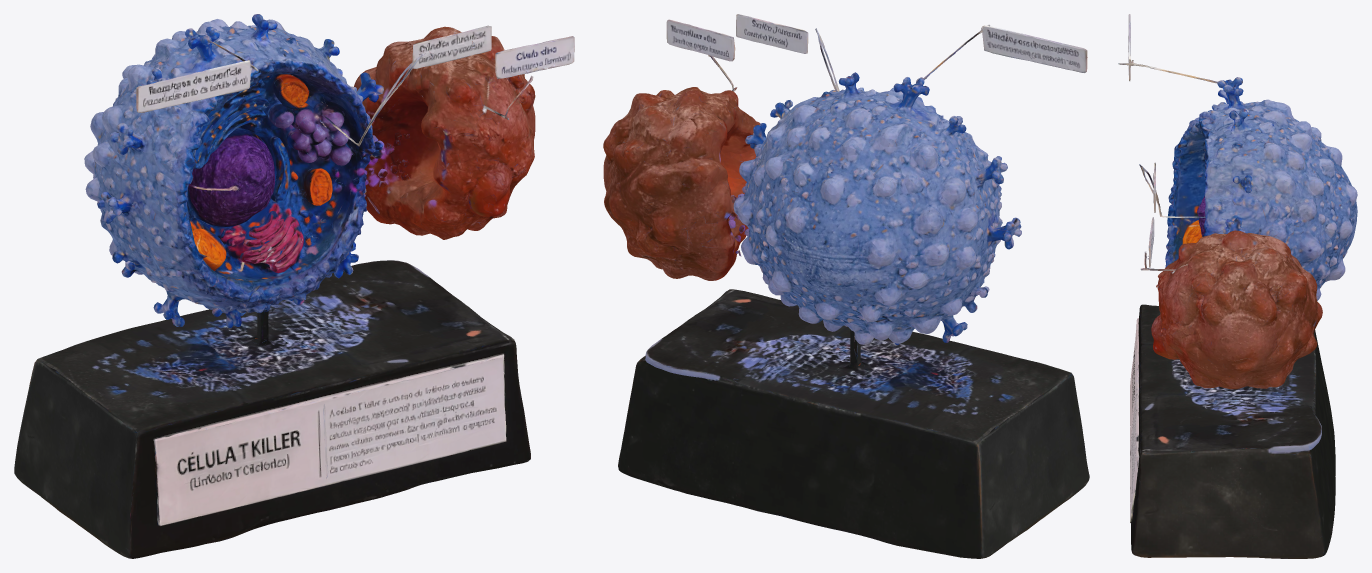
The model's file is celula_top.glb.
3 renders of one model, left to right at view 1: azimuth 30°, elevation 25°; view 2: azimuth 150°, elevation 25°; view 3: azimuth 270°, elevation 25°, orthographic. The views are drawn at different scales.
Parts seen in each view (by area): view 1: world; view 2: world; view 3: world.
Part boxes in pixels (x1,y1,x2,y2): world: [14, 14, 574, 558]; world: [603, 14, 1089, 558]; world: [1118, 14, 1357, 558].
Bounding box in the file's own units: 1.99 × 1.96 × 1.09.
1 material, 1 textured.
